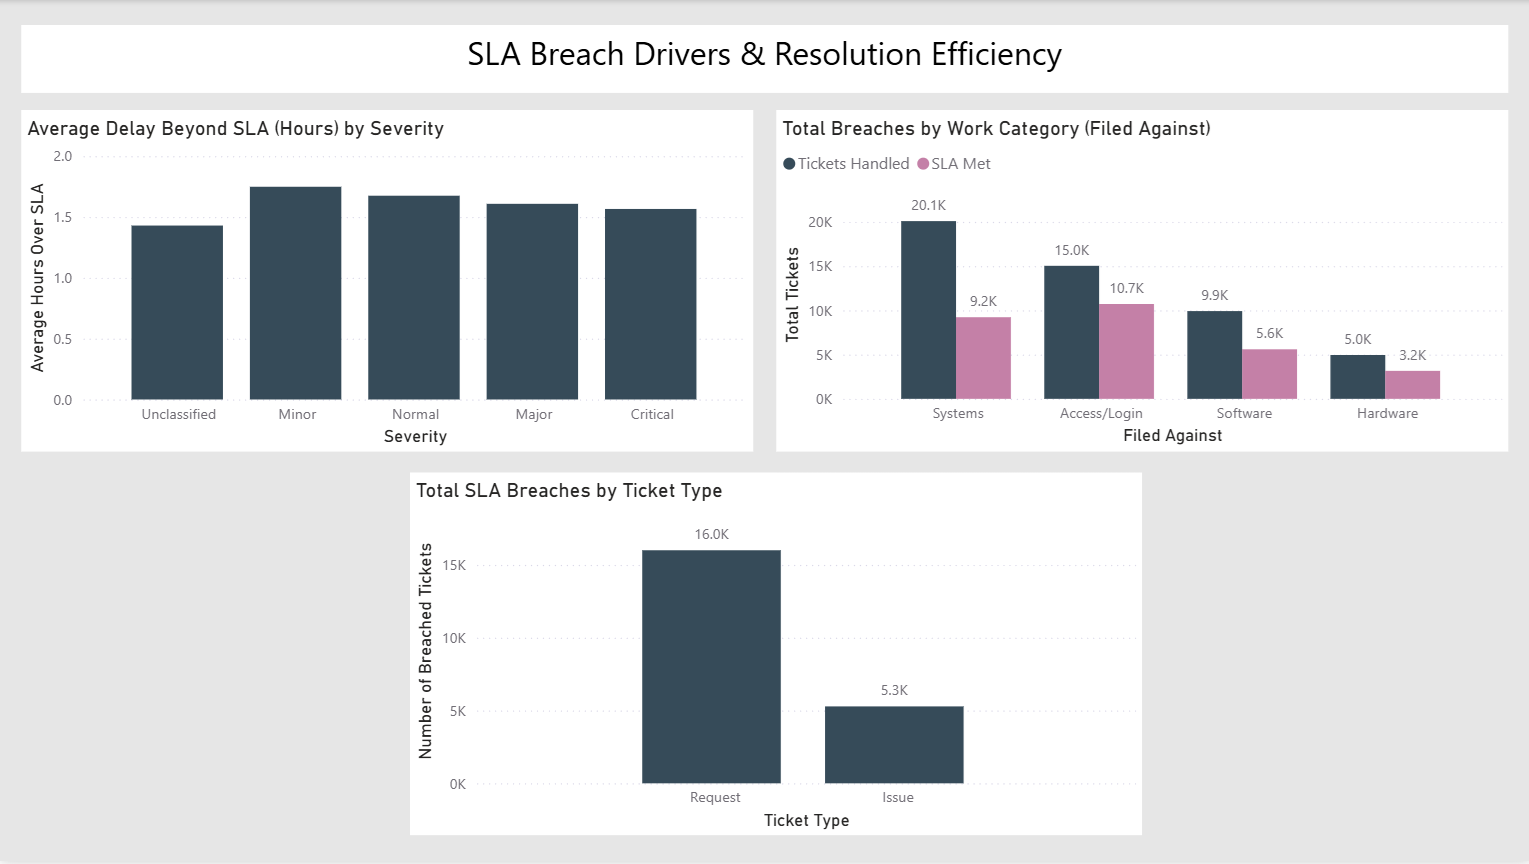

What the dashboard file says about the page in this screenshot:
{"tool":"powerbi","page":{"name":"SLA Beach Drivers and Resolution","canvas":[1280,720],"ordinal":2},"visuals":[{"type":"textbox","box":[17.4,20.9,1243,57],"z":0},{"type":"columnChart","title":"Average Delay Beyond SLA (Hours) by Severity","fields":{"Category":["SLA Project.Severity"],"Y":["SLA Project.Average Hours Over SLA"]},"box":[17.8,91.9,612,285.4],"z":2000},{"type":"columnChart","title":"Total SLA Breaches by Ticket Type","fields":{"Y":["Sum(SLA Project.Is_Breached)"],"Category":["SLA Project.Ticket Type"]},"box":[343.1,395.2,612,303.3],"z":3000},{"type":"clusteredColumnChart","title":"Total Breaches by Work Category (Filed Against)","fields":{"Category":["SLA Project.Filed Against"],"Y":["CountNonNull(SLA Project.Ticket No)","Sum(SLA Project.Is_Met)"]},"box":[649.1,91.9,612,285.4],"z":4000}]}

Visuals, with their boxes in screenshot pixels (x1, y1, x2, y2), scaled from the page's 1280x720 canvas onto the 1529x864 screenshot:
textbox: 21 25 1506 93
"Average Delay Beyond SLA (Hours) by Severity" columnChart: 21 110 752 453
"Total SLA Breaches by Ticket Type" columnChart: 410 474 1141 838
"Total Breaches by Work Category (Filed Against)" clusteredColumnChart: 775 110 1506 453
